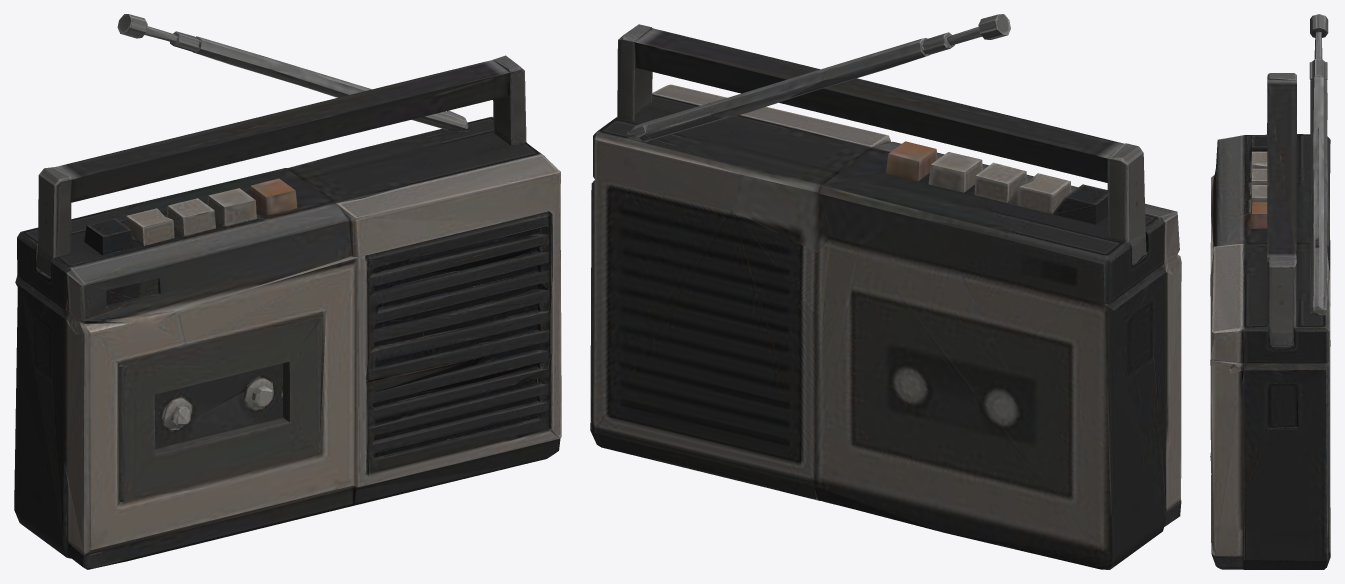
Rendered from radio.glb.
3 renders of one model, left to right at view 1: azimuth 30°, elevation 25°; view 2: azimuth 150°, elevation 25°; view 3: azimuth 270°, elevation 25°, orthographic. The views are drawn at different scales.
Size of the model in its own units: 1.89 by 1.84 by 0.4883.
Materials: 1 (1 with a texture image).
